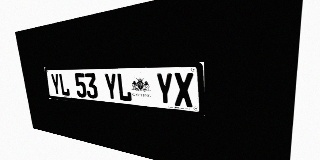3: (84, 73, 98, 99)
5: (74, 73, 87, 98)
L: (116, 73, 132, 102), (58, 73, 70, 96)
X: (173, 72, 194, 107)
Y: (155, 73, 174, 106), (103, 73, 118, 101), (50, 73, 61, 96)
